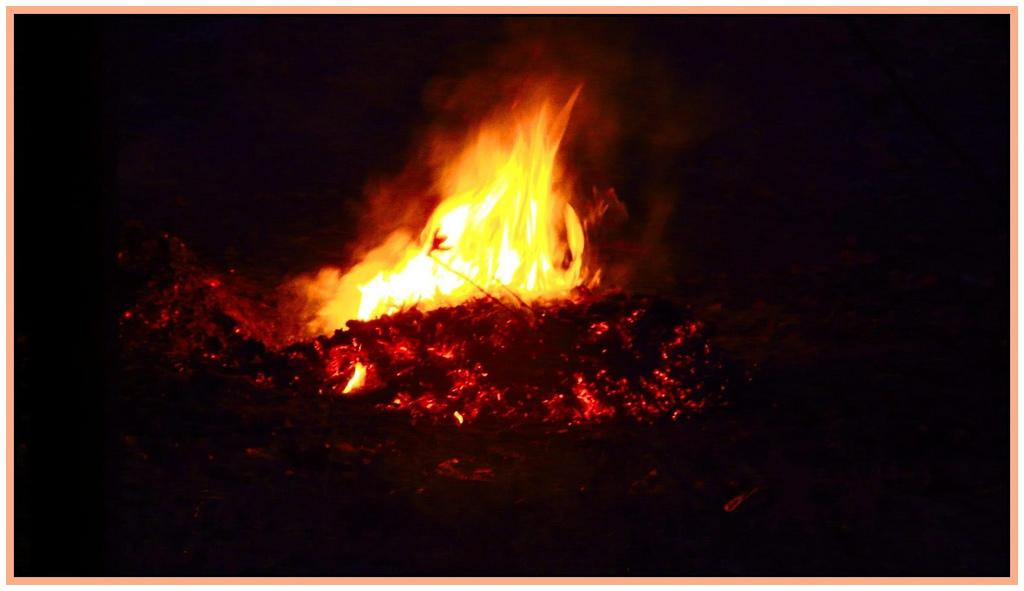fire: (450, 177, 557, 293), (349, 251, 434, 319)
